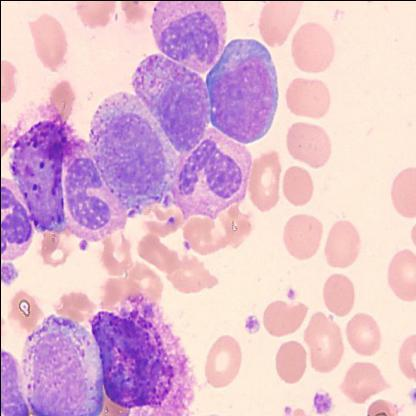Promyelocyte: (84, 92, 176, 210), (18, 310, 100, 415)
